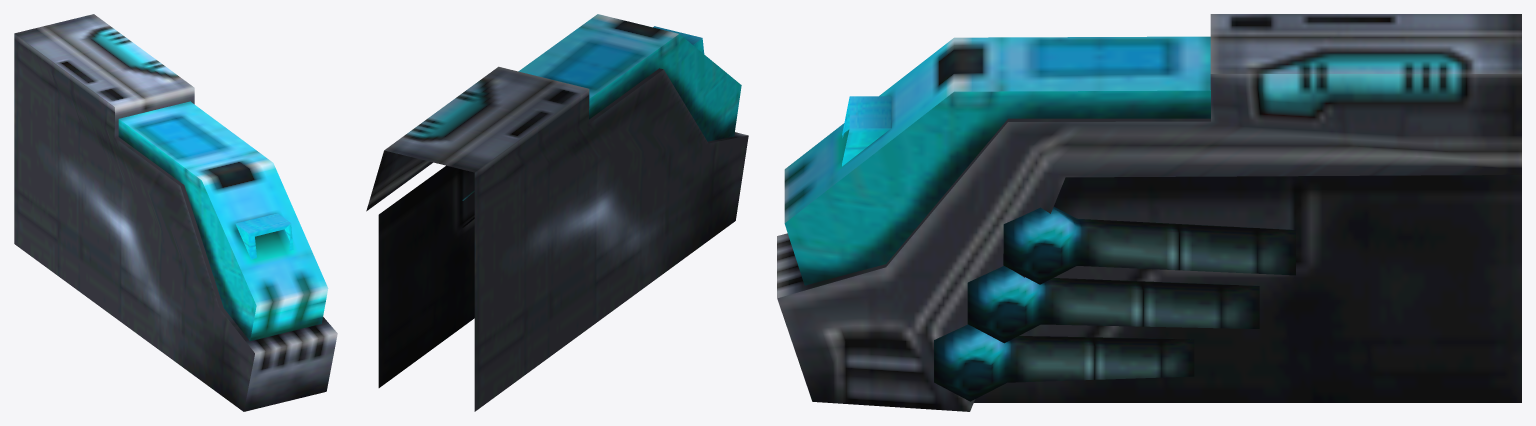
The model's file is datan_common_____0_5bb02f75.obj.
3 renders of one model, left to right at view 1: azimuth 30°, elevation 25°; view 2: azimuth 150°, elevation 25°; view 3: azimuth 270°, elevation 25°, orthographic. The views are drawn at different scales.
Visible parts, largest first — view 1: datan_common_____0_5bb02f75; view 2: datan_common_____0_5bb02f75; view 3: datan_common_____0_5bb02f75.
Boxes of the visible parts, <box> form: datan_common_____0_5bb02f75: <box>14,14,337,411</box>; datan_common_____0_5bb02f75: <box>366,14,748,411</box>; datan_common_____0_5bb02f75: <box>777,14,1521,411</box>.
Size of the model in its own units: 1.35 by 2.5 by 5.18.
Materials: 1 (1 with a texture image).
